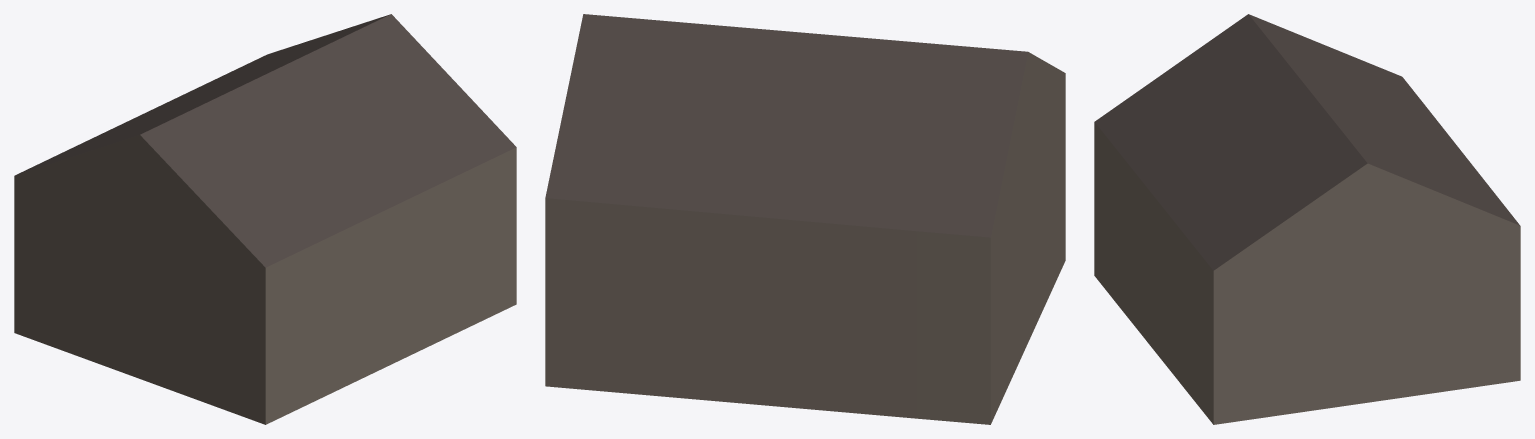
3 views of the same model, side by side, from view 1: azimuth 30°, elevation 25°; view 2: azimuth 150°, elevation 25°; view 3: azimuth 270°, elevation 25° (orthographic). The views are drawn at different scales.
Visible parts, largest first — view 1: HP-w1198645064; view 2: HP-w1198645064; view 3: HP-w1198645064.
Boxes of the visible parts, <box> form: HP-w1198645064: <box>14,14,516,424</box>; HP-w1198645064: <box>545,14,1065,424</box>; HP-w1198645064: <box>1094,14,1520,424</box>.
Bounding box in the file's own units: 16.22 × 9.32 × 15.03.
